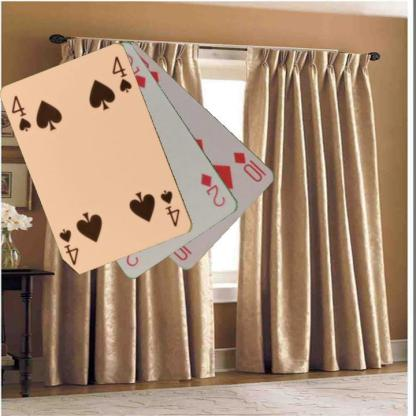10d: (231, 149, 268, 184)
2d: (198, 171, 227, 209)
4s: (8, 92, 34, 133), (158, 187, 181, 228)
